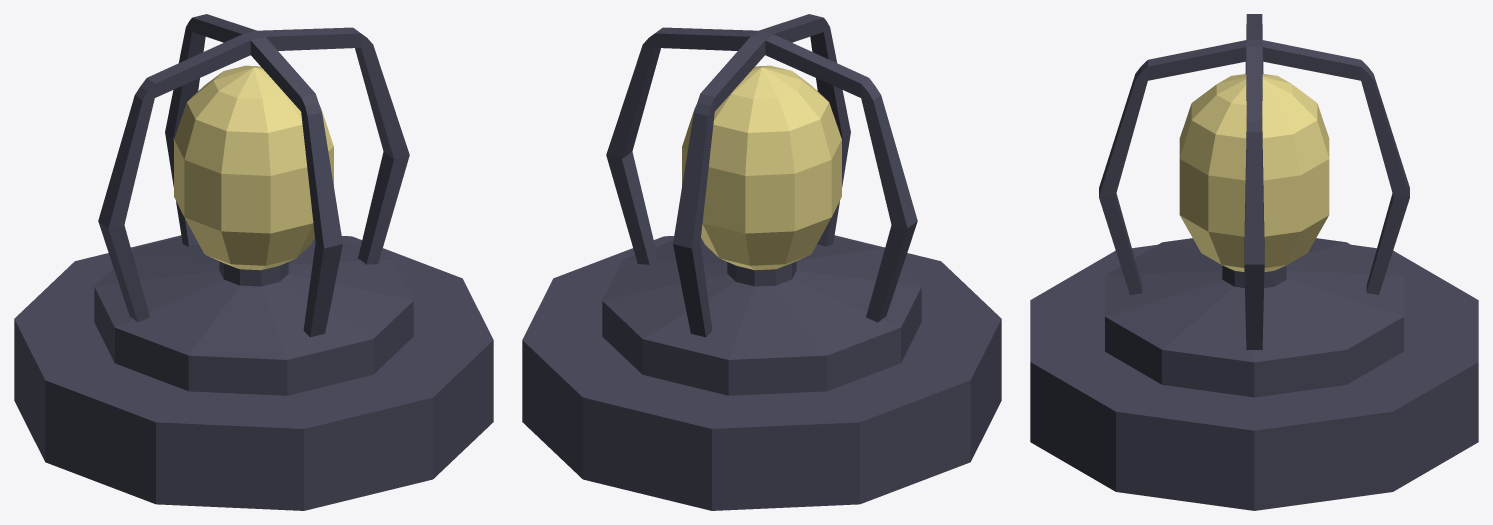
File: O_Enviroment_CagedLamp_1.fbx
3 views of the same model, side by side, from view 1: azimuth 30°, elevation 25°; view 2: azimuth 150°, elevation 25°; view 3: azimuth 270°, elevation 25° (orthographic). The views are drawn at different scales.
Parts seen in each view (by area): view 1: pCylinder15; view 2: pCylinder15; view 3: pCylinder15.
Part boxes in pixels (bbox=[...]): pCylinder15: bbox=[14, 14, 493, 510]; pCylinder15: bbox=[522, 14, 1001, 510]; pCylinder15: bbox=[1030, 14, 1478, 510].
Size of the model in its own units: 2 by 1.72 by 1.9.
